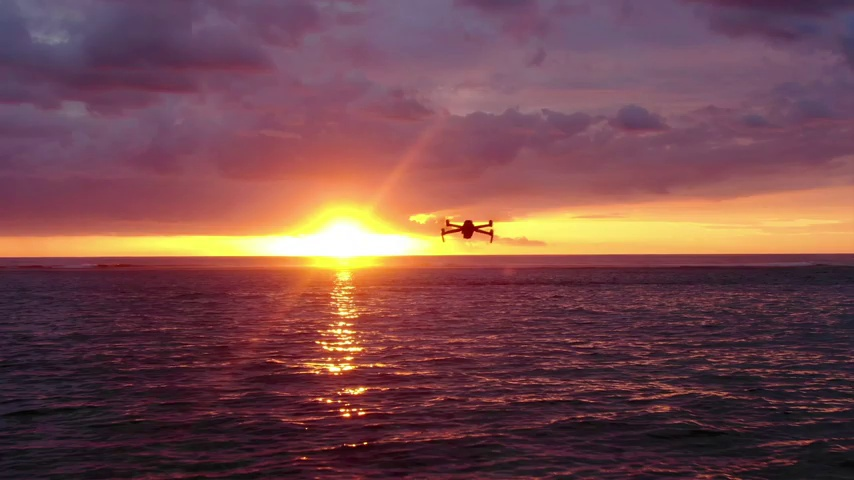drone: (440, 219, 494, 244)
